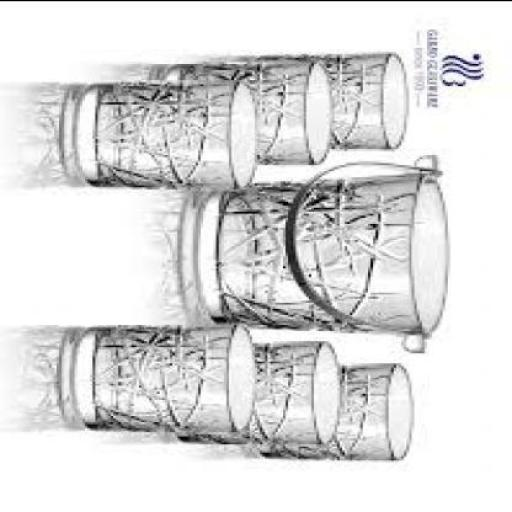glass: (188, 170, 447, 332), (56, 322, 260, 437), (62, 78, 260, 184), (147, 57, 334, 160), (177, 340, 345, 442), (244, 50, 412, 144), (257, 362, 415, 455)
